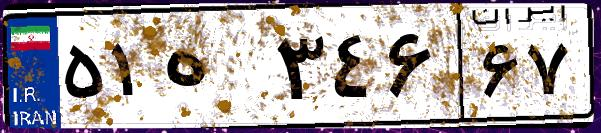1: (110, 28, 158, 98)
3: (270, 28, 330, 110)
4: (330, 28, 385, 110)
5: (57, 26, 110, 100)
6: (385, 28, 445, 110), (475, 38, 525, 113)
7: (525, 38, 570, 115)
ه: (158, 20, 270, 120)
